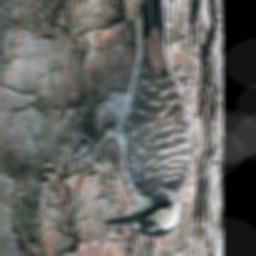Woodpecker: (68, 0, 197, 239)
